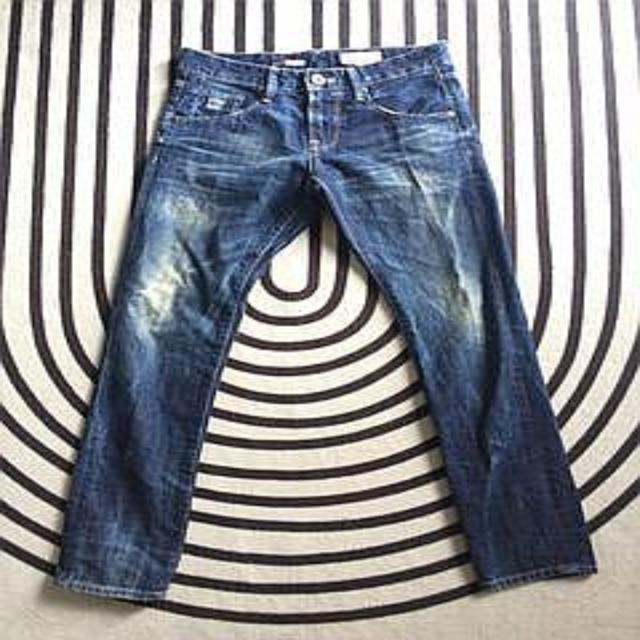TROUSER: (43, 34, 614, 606)
